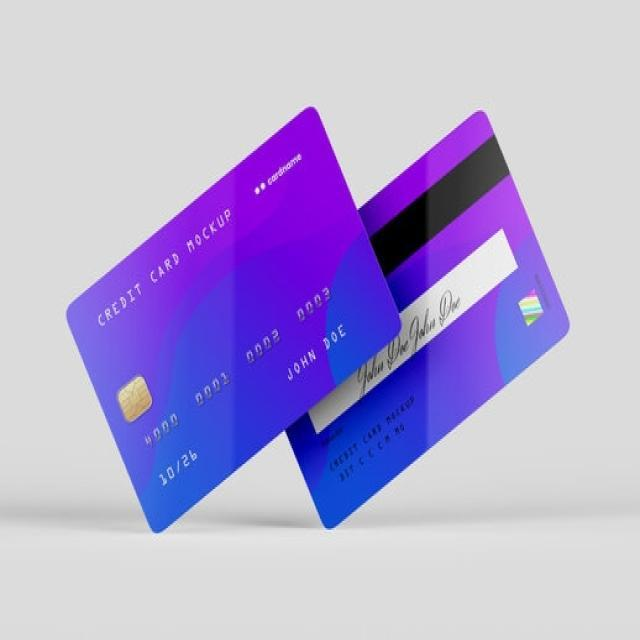payment_card: (64, 104, 402, 533), (283, 107, 570, 530)
